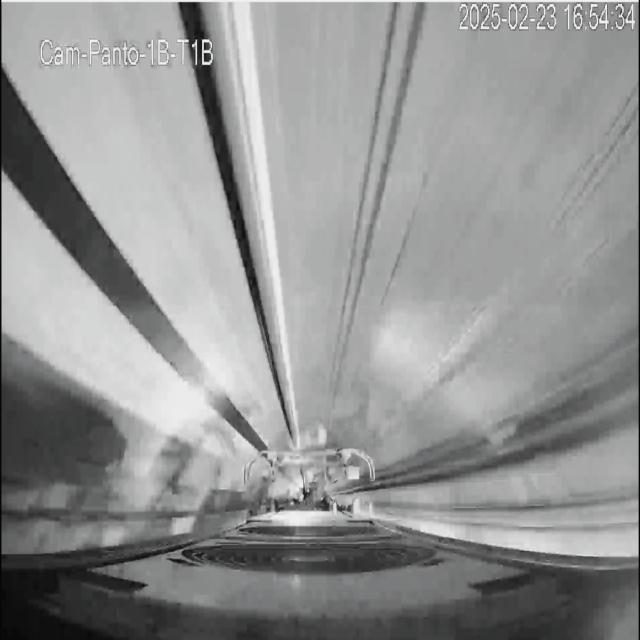Camera Stamp: (38, 32, 219, 77)
Date Stamp: (458, 1, 637, 49)
Sparks: (278, 430, 335, 473), (266, 432, 345, 463)
